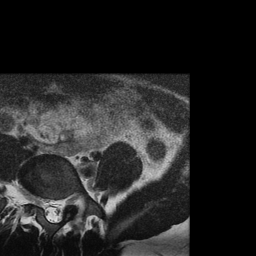CCS_normal: (49, 191, 56, 230)
LFS_normal: (63, 187, 71, 212)
LLS_normal: (56, 191, 64, 227)
RFS_normal: (32, 186, 41, 212)
RLS_normal: (41, 189, 49, 225)
